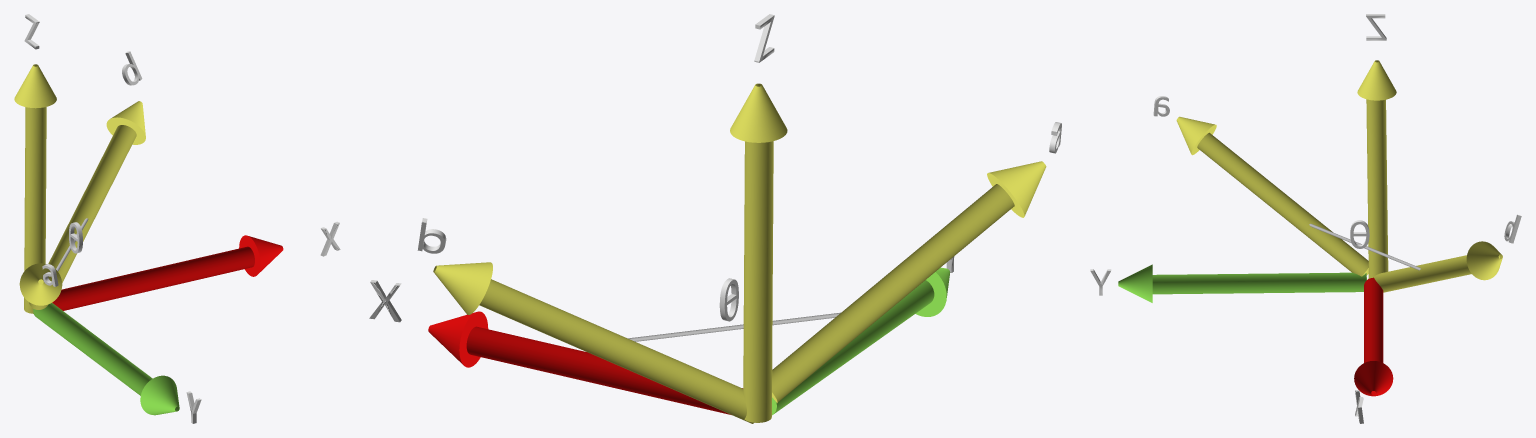
The picture shows the model from 3 angles, left to right: view 1: azimuth 30°, elevation 25°; view 2: azimuth 150°, elevation 25°; view 3: azimuth 270°, elevation 25°; orthographic projection. The views are drawn at different scales.
Parts seen in each view (by area): view 1: Cylinder.031, Cylinder.029, Cylinder.028, Cylinder.030, Cone.023, Cone.020, Cone.022, Cone.024, Cone.021; view 2: Cylinder.027, Cylinder.028, Cylinder.029, Cylinder.031, Cylinder.030, Cone.022, Cone.021, Cone.020, Cone.024, Cylinder.026, Cone.023; view 3: Cylinder.030, Cylinder.027, Cylinder.029, Cylinder.028, Cylinder.031, Cone.024, Cone.021, Cone.022, Cone.020, Cone.023.
Boxes of the visible parts, x1,y1,x2,y2 form: Cylinder.031: (52,246,254,310); Cylinder.029: (24,107,46,313); Cylinder.028: (48,125,136,282); Cylinder.030: (33,303,152,395); Cone.023: (140,375,179,415); Cone.020: (19,263,62,305); Cone.022: (14,64,56,108); Cone.024: (239,235,283,276); Cone.021: (106,101,145,144); Cylinder.027: (772,184,1014,402); Cylinder.028: (479,279,754,423); Cylinder.029: (743,141,773,422); Cylinder.031: (466,326,742,414); Cylinder.030: (772,280,934,415); Cone.022: (730,83,787,142); Cone.021: (433,262,492,314); Cone.020: (987,161,1046,217); Cone.024: (428,311,488,367); Cylinder.026: (628,312,840,341); Cone.023: (915,267,950,316); Cylinder.030: (1152,272,1366,294); Cylinder.027: (1197,132,1369,276); Cylinder.029: (1366,99,1388,277); Cylinder.028: (1368,255,1471,292); Cylinder.031: (1364,277,1383,362); Cone.024: (1354,361,1393,396); Cone.021: (1466,241,1502,280); Cone.022: (1357,60,1396,100); Cone.020: (1176,116,1216,155); Cone.023: (1118,264,1152,302).
Size of the model in its own units: 0.2186 by 0.1603 by 0.2204.
